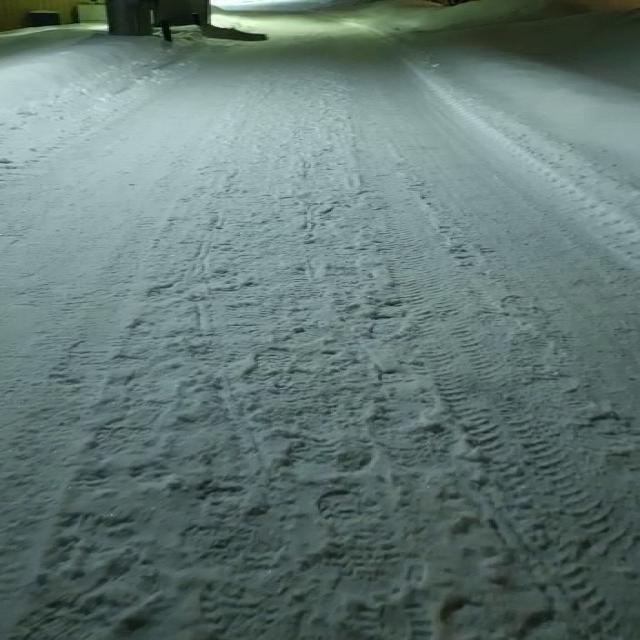path: (0, 0, 640, 640)
